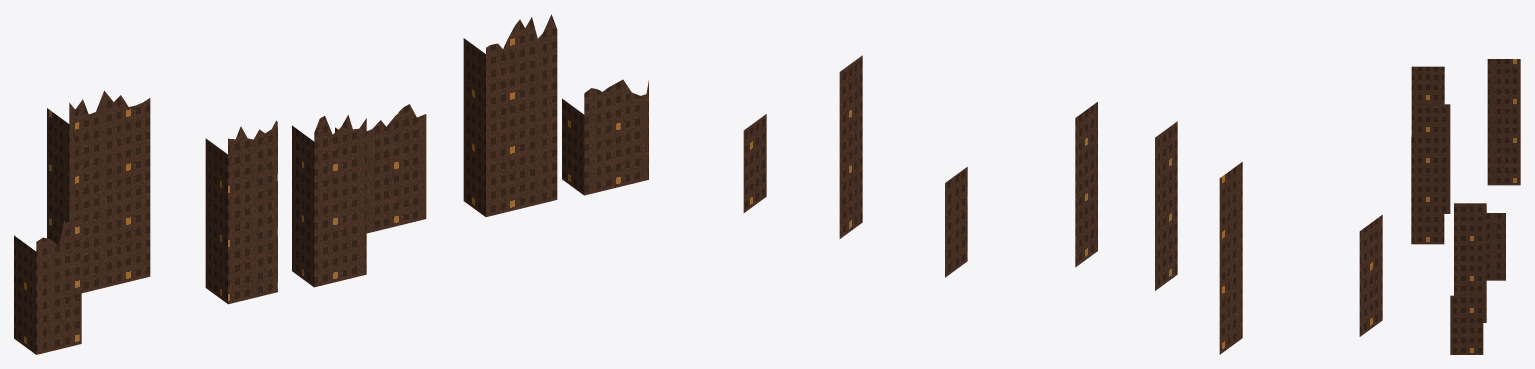
The model's file is far_ruins.gltf.
3 views of the same model, side by side, from view 1: azimuth 30°, elevation 25°; view 2: azimuth 150°, elevation 25°; view 3: azimuth 270°, elevation 25° (orthographic). The views are drawn at different scales.
Visible parts, largest first — view 1: far_ruins; view 2: far_ruins; view 3: far_ruins.
Part boxes in pixels (x1=…): far_ruins: x1=14, y1=14, x2=648, y2=354; far_ruins: x1=743, y1=55, x2=1382, y2=354; far_ruins: x1=1411, y1=59, x2=1520, y2=354.
Bounding box in the file's own units: 49.54 × 14.63 × 9.98.
Materials: 1 (1 with a texture image).
